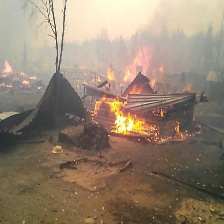fire: (101, 46, 159, 88), (95, 93, 149, 137), (17, 71, 40, 88), (1, 80, 18, 93), (1, 60, 15, 74)
smoke: (8, 1, 217, 52)
